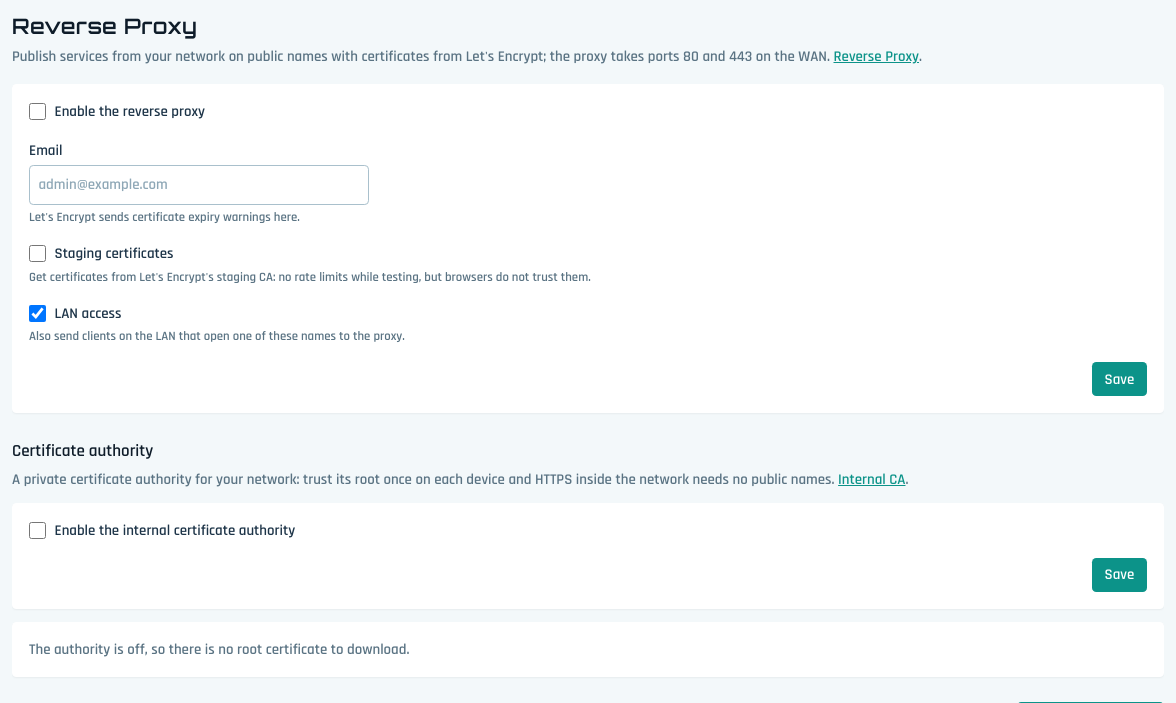
Test: ReverseProxy settings › shows an enabled-state error next to the enable checkbox
Click the checkbox labelled "Enable the reverse proxy": click(38, 112) 29,103 -> 46,120
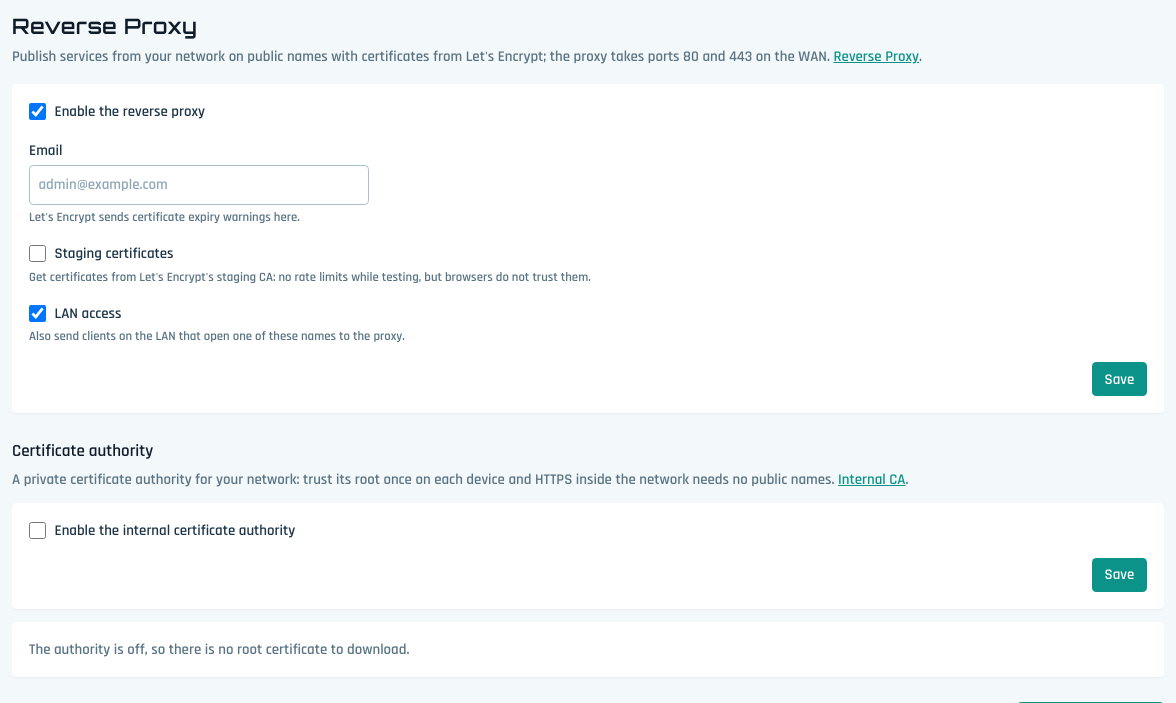
Click the 1st button "Save": click(1119, 379) 1092,362 -> 1147,396
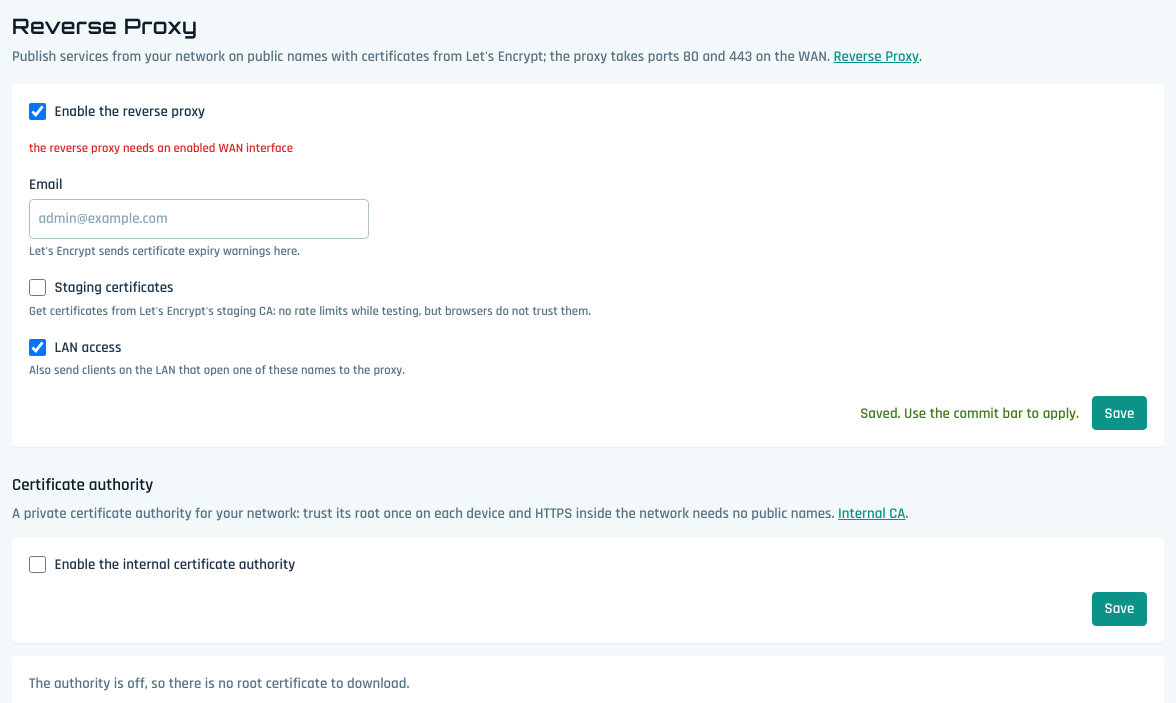
Check: the message "the reverse proxy needs an enabled WAN interface" is shown, box 29,140 -> 293,156
